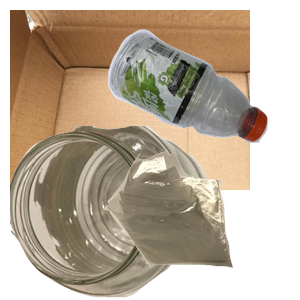cardboard: (10, 10, 250, 190)
glass: (10, 126, 216, 300)
plastic: (105, 27, 300, 162)
trash: (101, 148, 300, 300)
